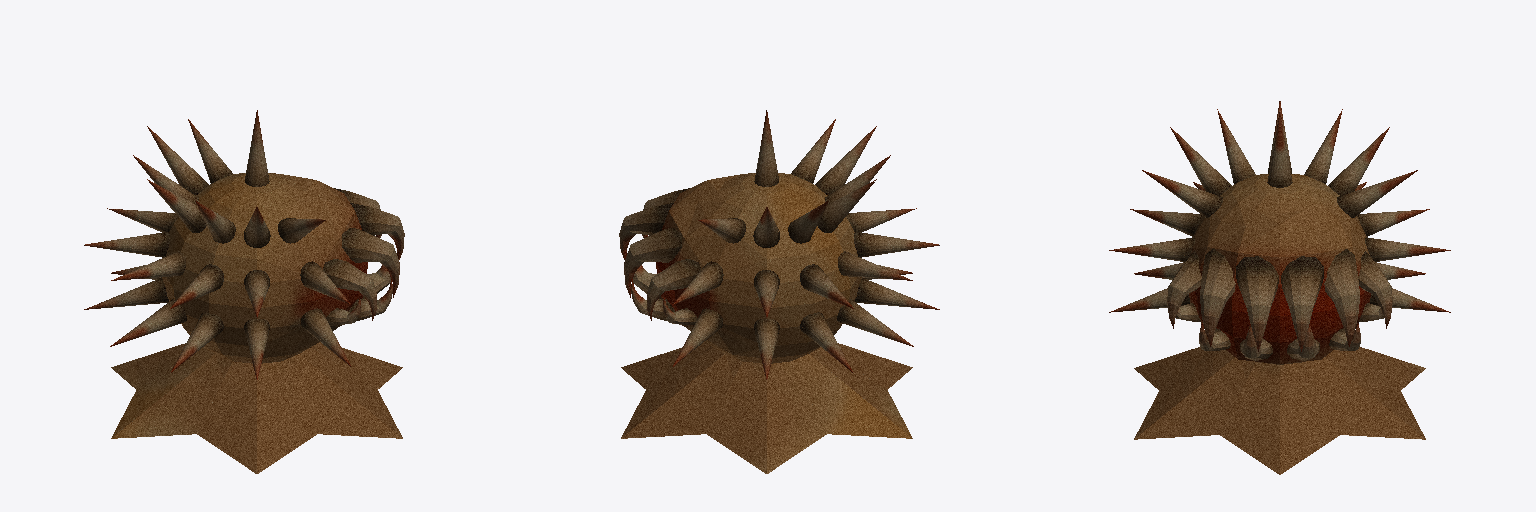
3 views of the same model, side by side, from view 1: azimuth 30°, elevation 25°; view 2: azimuth 150°, elevation 25°; view 3: azimuth 270°, elevation 25° (orthographic).
Visible parts, largest first — view 1: pSphere2; view 2: pSphere2; view 3: pSphere2.
Part boxes in pixels (x1,y1,x2,y2): pSphere2: (84,110,404,473); pSphere2: (619,110,939,473); pSphere2: (1109,101,1450,474).
Bounding box in the file's own units: 9.42 × 9 × 9.52.
1 materials, 1 textured.